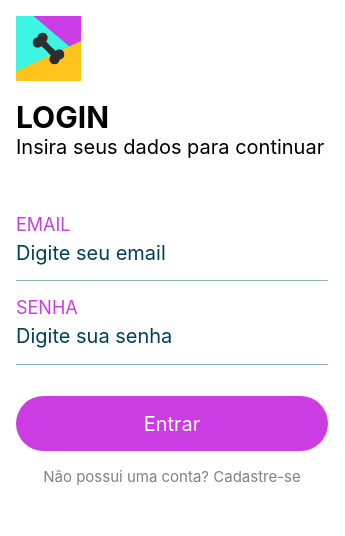
Test: Login Screen › it rendering inputs
Click the element with test id "ButtonSubmit" at x=172, y=424, box [16,396,328,451]
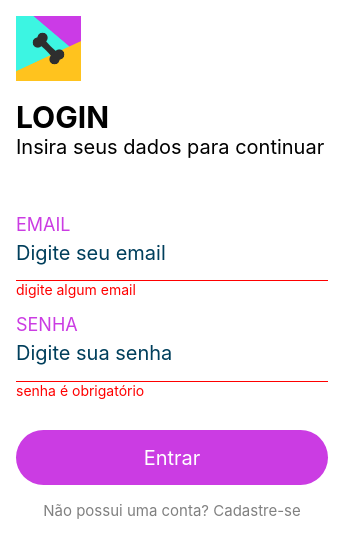
Now the text "digite algum email" is shown, box [16,281,136,298]
Now the text "senha é obrigatório" is shown, box [16,382,144,399]
